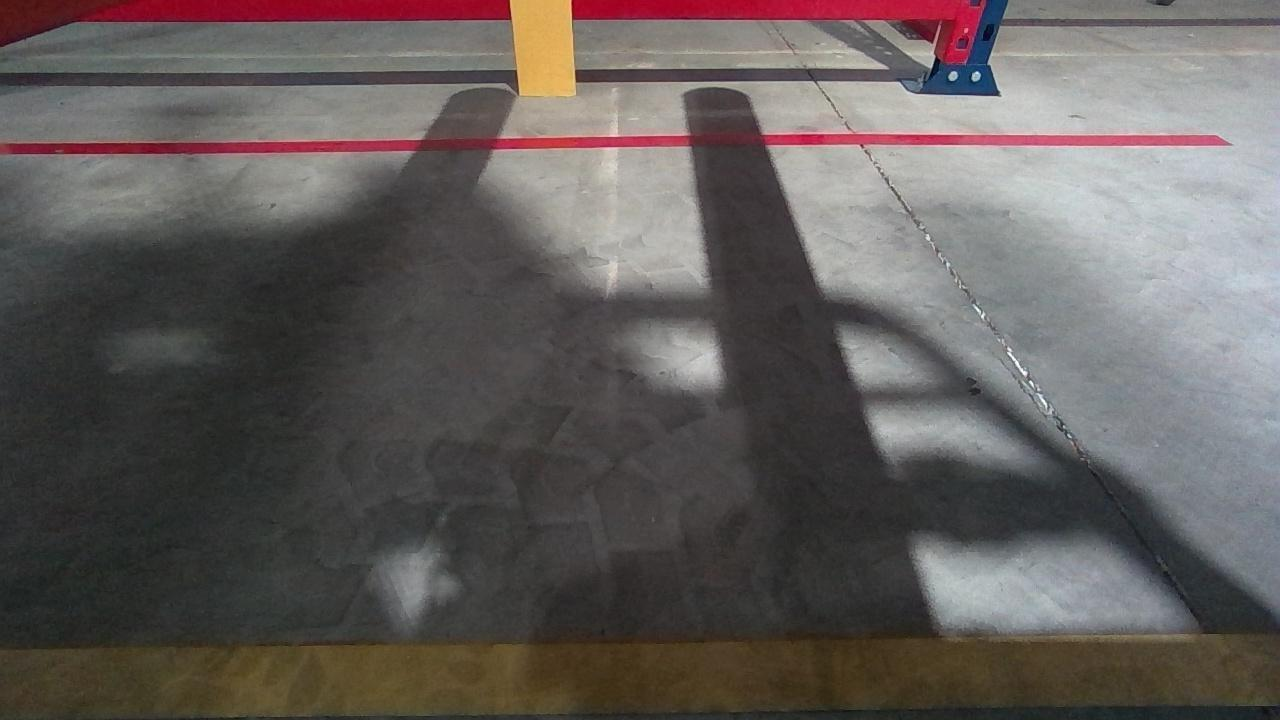red_line: (1, 133, 1229, 154)
yellow_line: (0, 632, 1280, 718)
